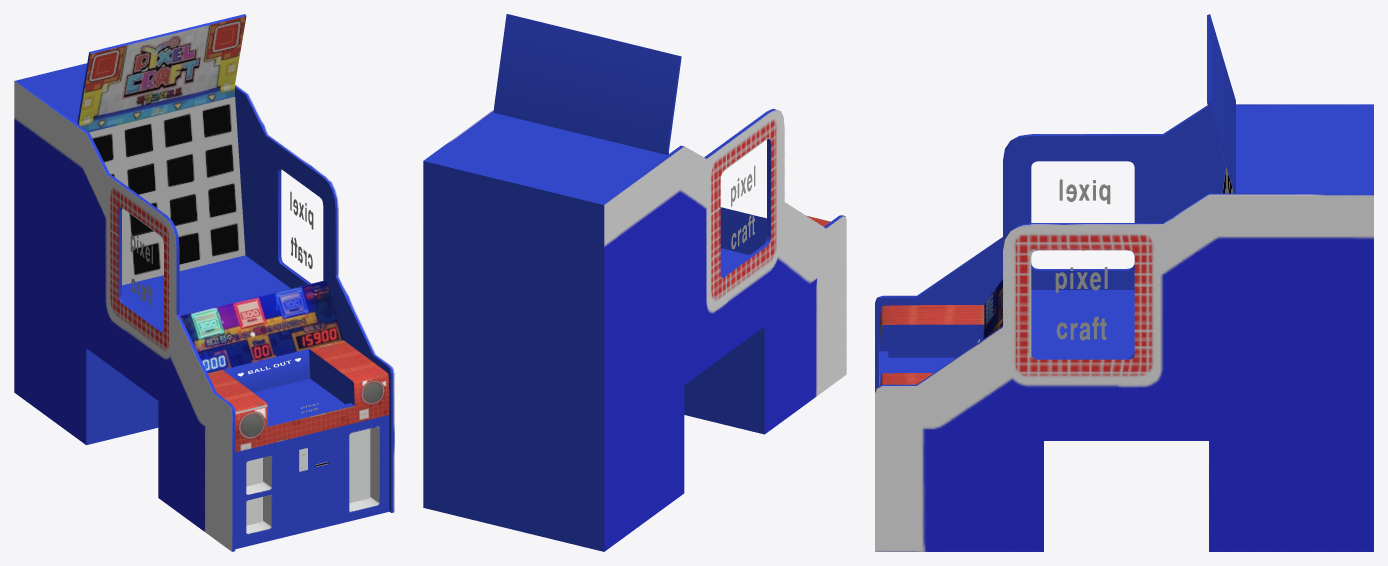
File: LC_3115_gameC_LOD1.FBX
The picture shows the model from 3 angles, left to right: view 1: azimuth 30°, elevation 25°; view 2: azimuth 150°, elevation 25°; view 3: azimuth 270°, elevation 25°; orthographic projection. The views are drawn at different scales.
Visible parts, largest first — view 1: LC_3115_gameC_LOD1; view 2: LC_3115_gameC_LOD1; view 3: LC_3115_gameC_LOD1.
Part boxes in pixels (<box>): LC_3115_gameC_LOD1: <box>14,14,394,551</box>; LC_3115_gameC_LOD1: <box>423,14,846,551</box>; LC_3115_gameC_LOD1: <box>875,14,1373,551</box>.
Size of the model in its own units: 104 by 240 by 242.
1 material, 1 textured.
